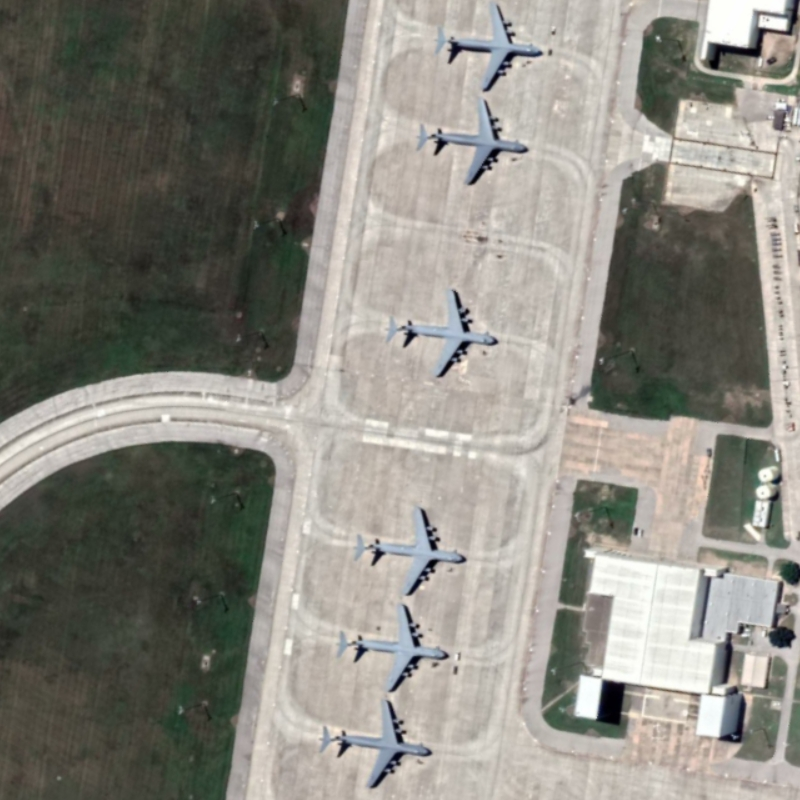A4: (377, 278, 502, 383), (326, 594, 451, 698), (312, 694, 437, 794), (411, 92, 533, 190), (349, 500, 469, 599), (427, 1, 543, 92)
